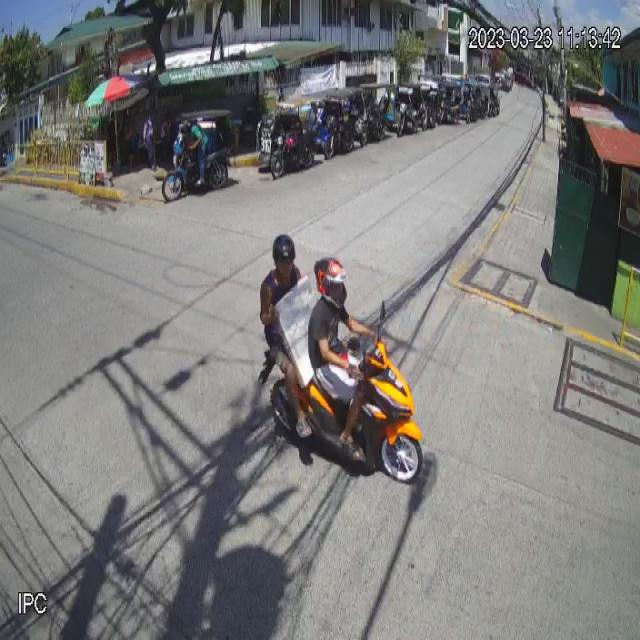Motorcycle: (270, 300, 424, 488)
